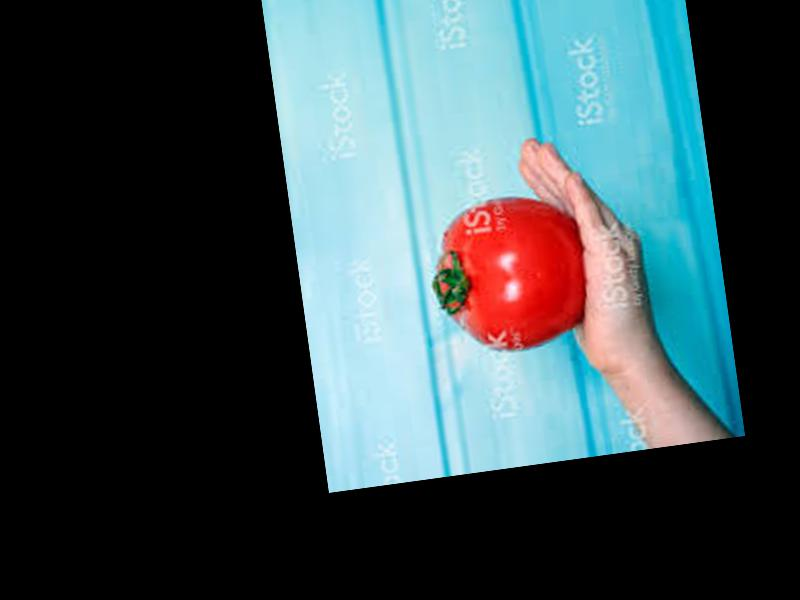Tomato: (424, 187, 595, 357)
